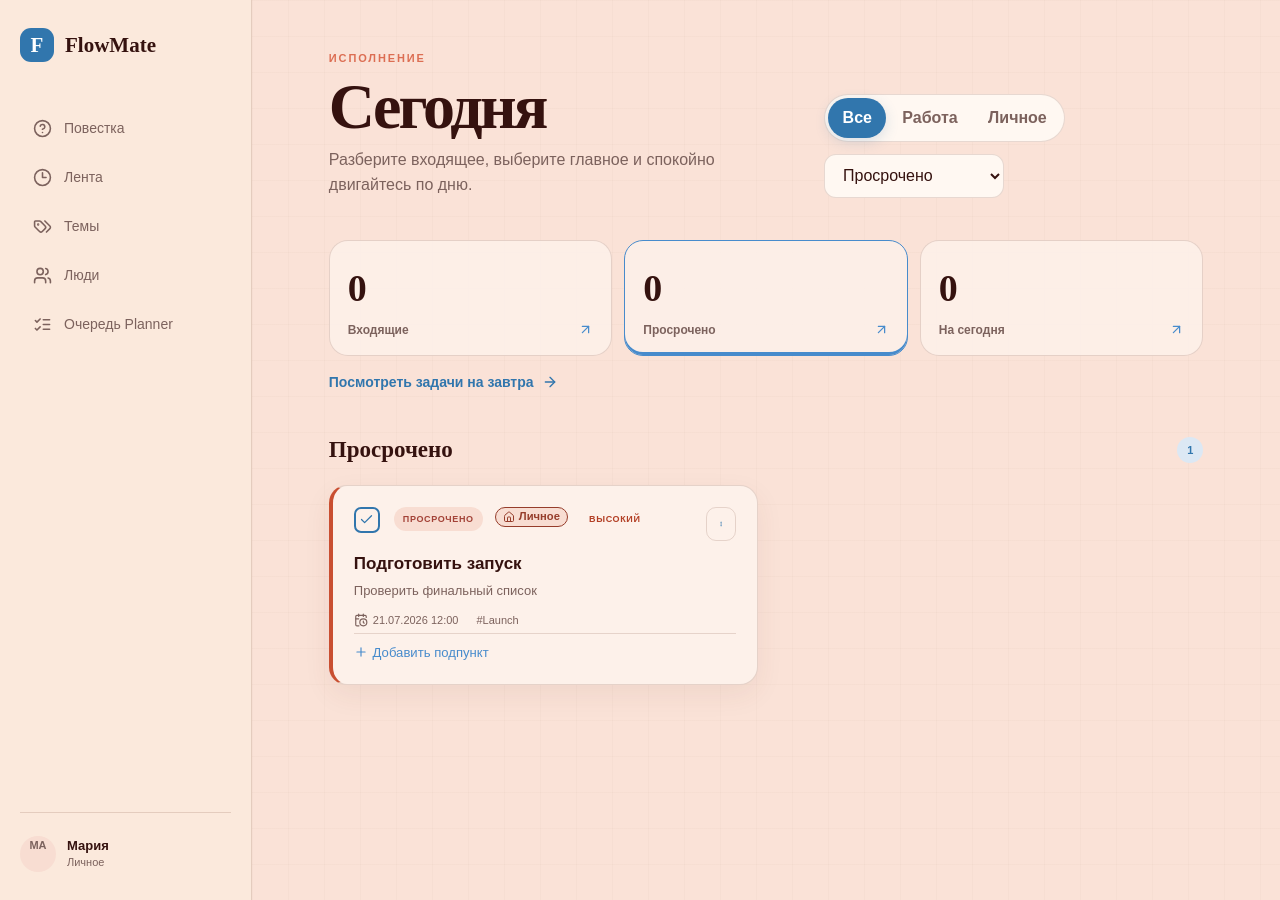
Scenario: operational screens › does not animate or repeat a failed complete action
The width and height of the screenshot is (1280, 900).
Click the button named "Готово". click: x=367, y=520
box: [354, 507, 380, 533]
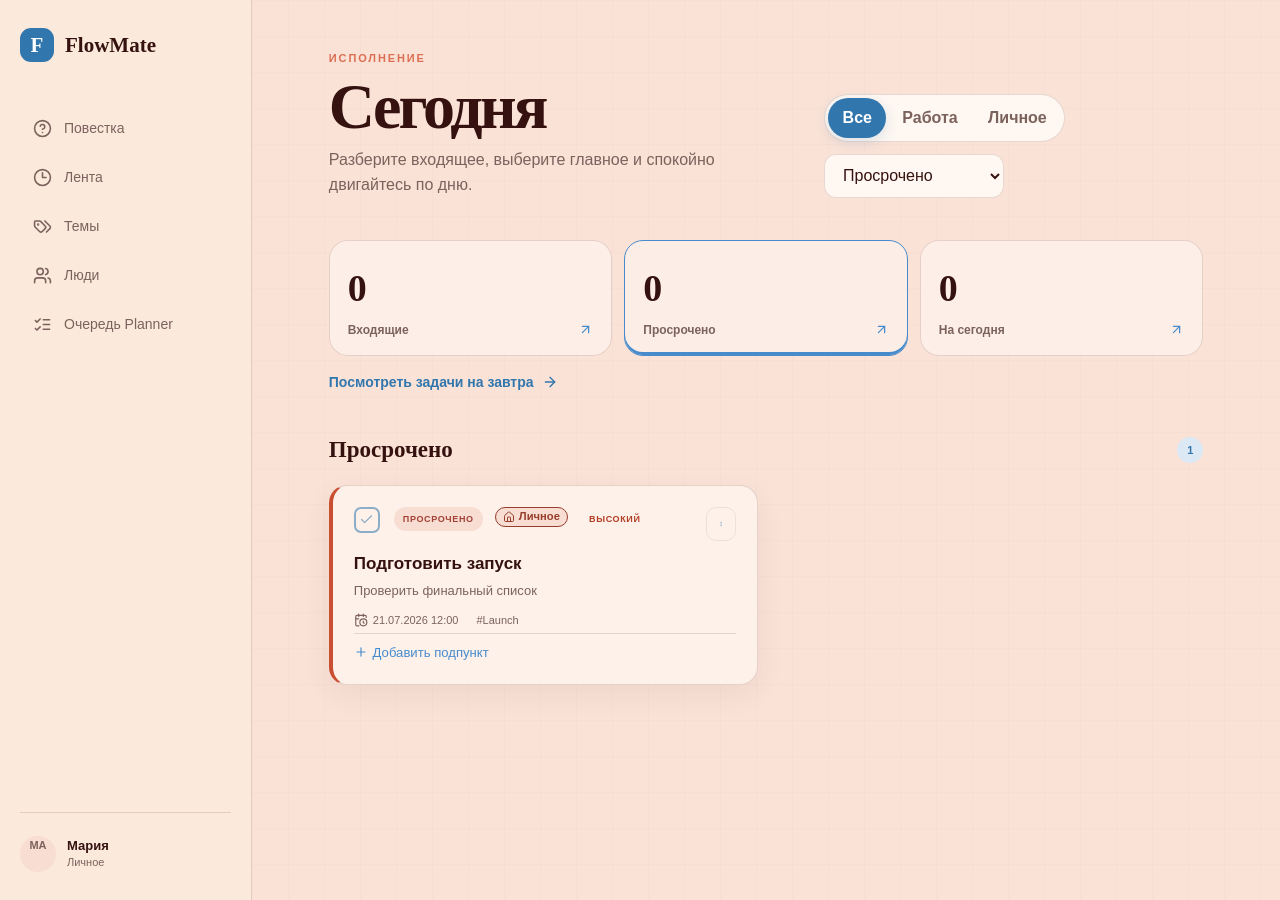
Now the button named "Готово" is disabled
Click the button named "Готово". click: x=367, y=520
box: [354, 507, 380, 533]
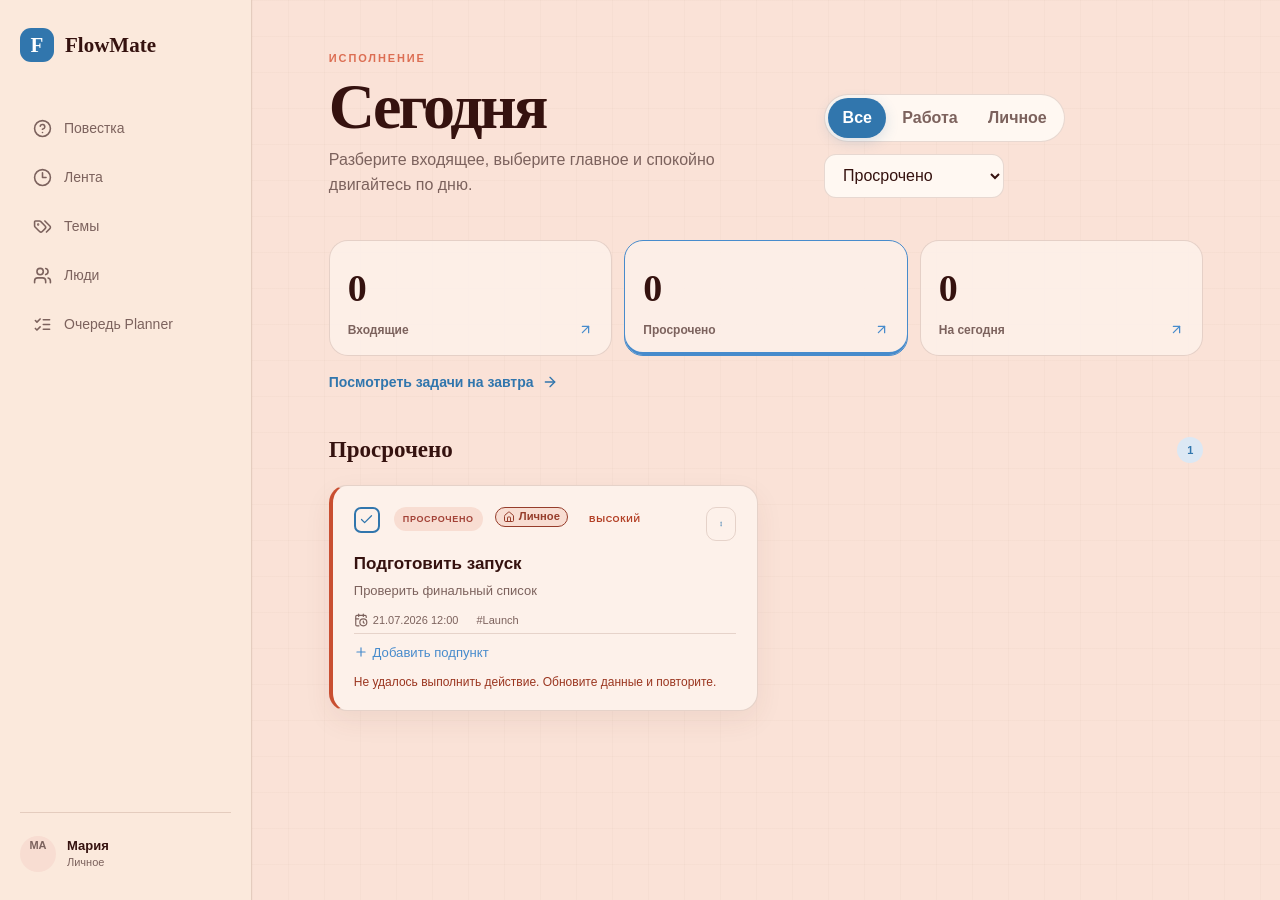
Now the text "Не удалось выполнить действие. Обновите данные и повторите." is shown, box [354, 675, 736, 689]
